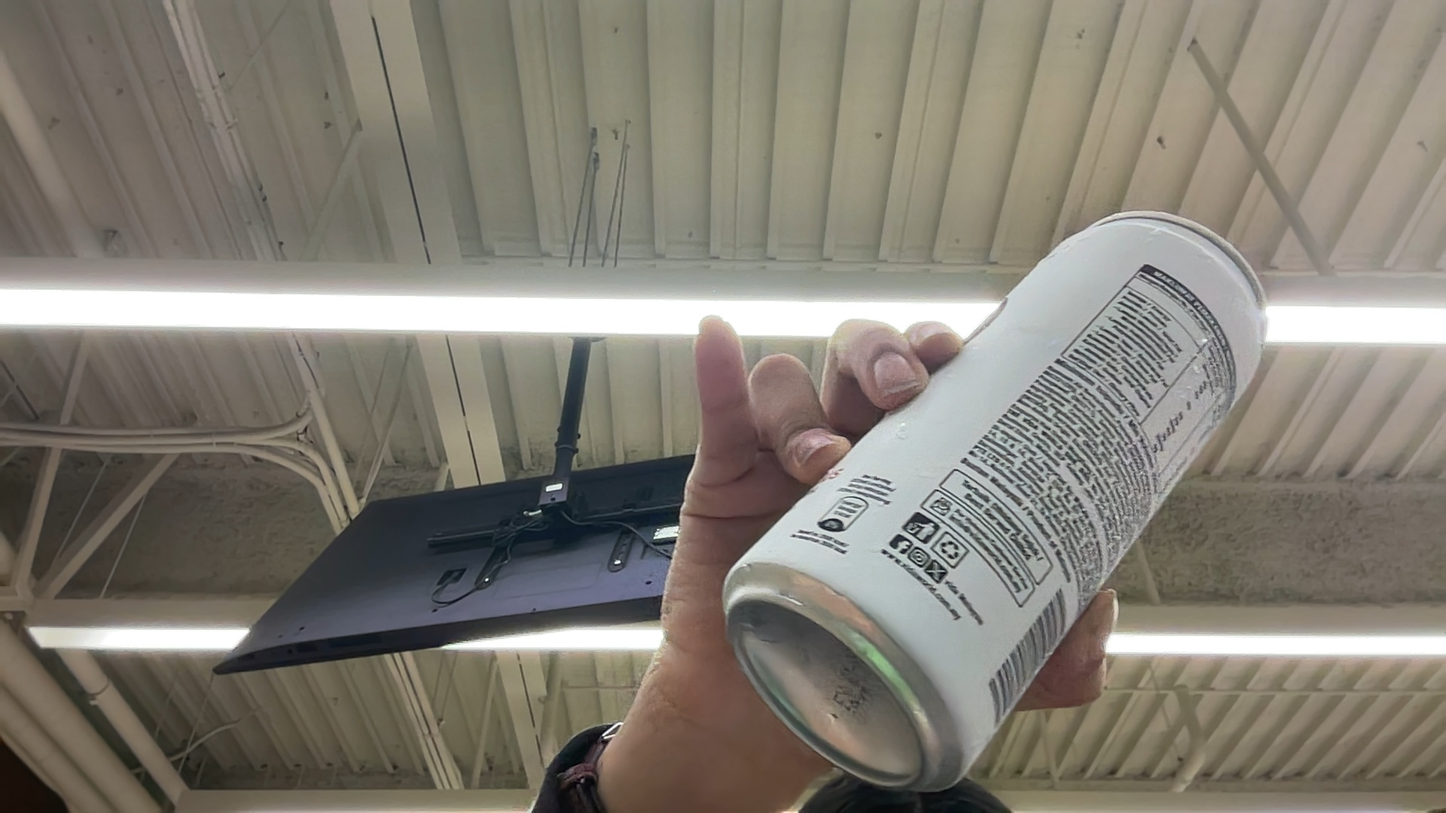Metal: (681, 199, 1368, 767)
